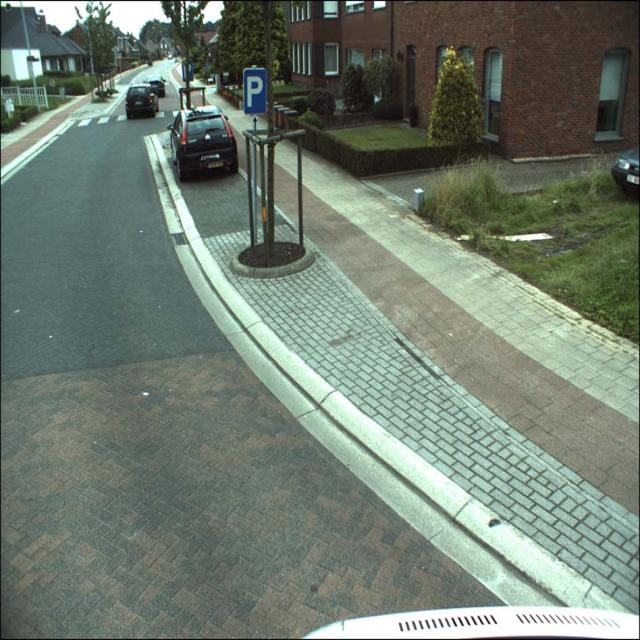park: (244, 67, 266, 114)
